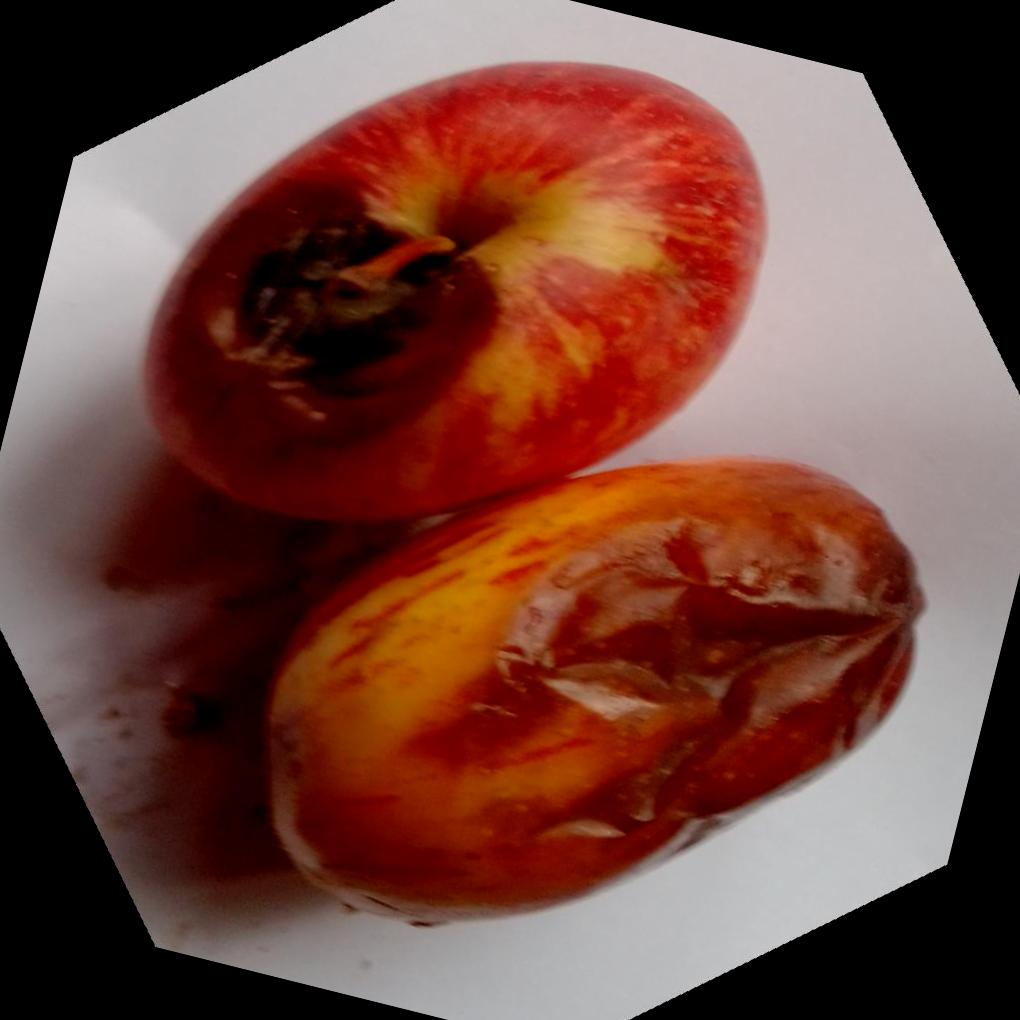FreshOrange: (140, 55, 929, 926)
